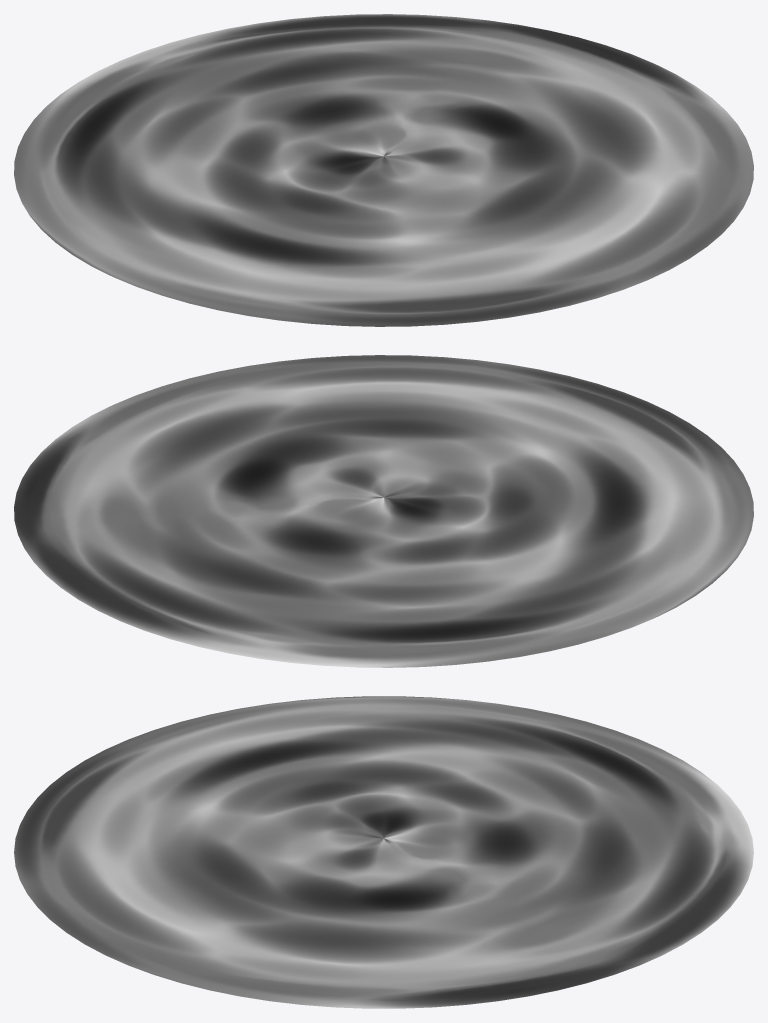
The model's file is SM_Ripple_HemiSphere.FBX.
3 views of the same model, one above another, from view 1: azimuth 30°, elevation 25°; view 2: azimuth 150°, elevation 25°; view 3: azimuth 270°, elevation 25° (orthographic).
Visible parts, largest first — view 1: Ripple; view 2: Ripple; view 3: Ripple.
Boxes of the visible parts, <box> form: Ripple: <box>14,14,753,326</box>; Ripple: <box>14,355,753,667</box>; Ripple: <box>14,696,753,1008</box>.
Size of the model in its own units: 112 by 2.36 by 112.
